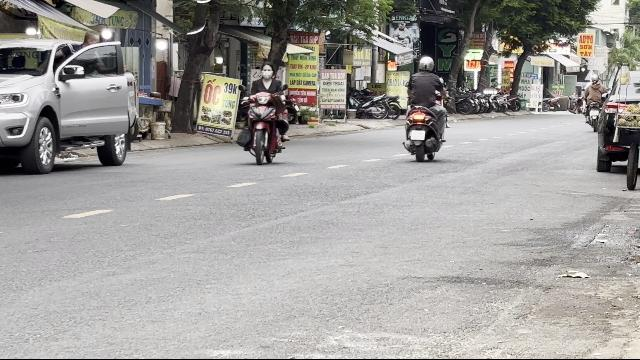motorcyclist: (237, 63, 291, 165)
nohelmet: (261, 64, 275, 80)
